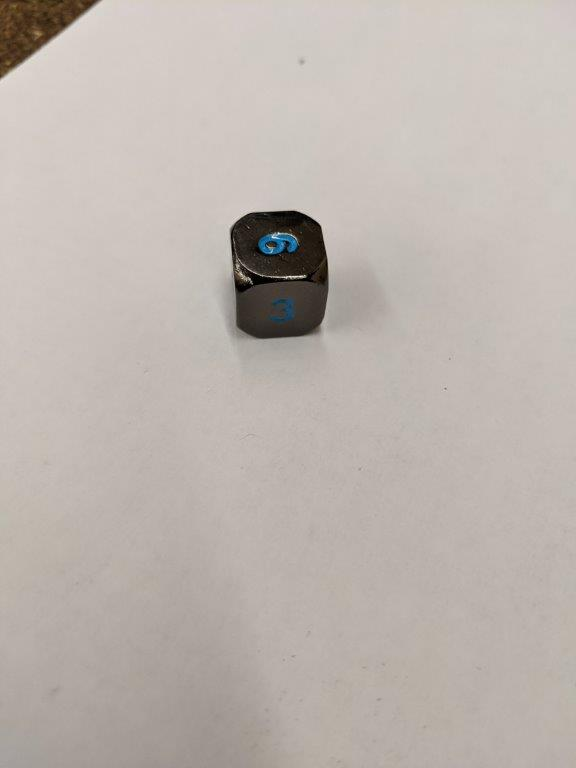d6-6: (230, 206, 332, 344)
